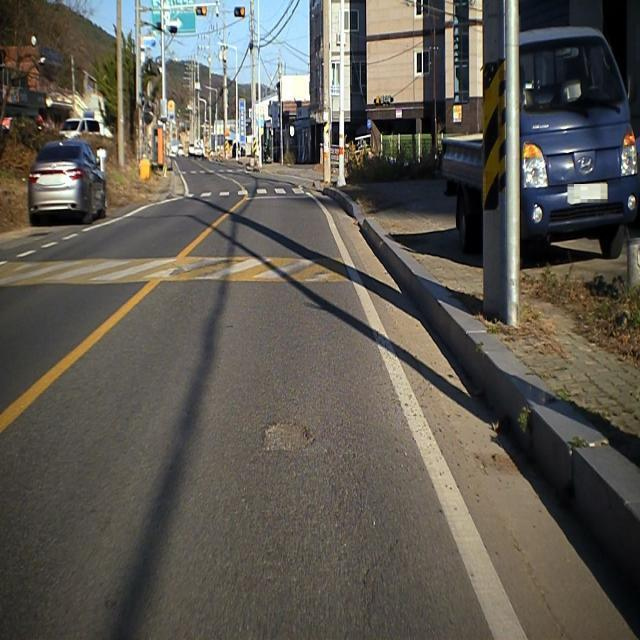Pothole: (264, 422, 314, 451)
